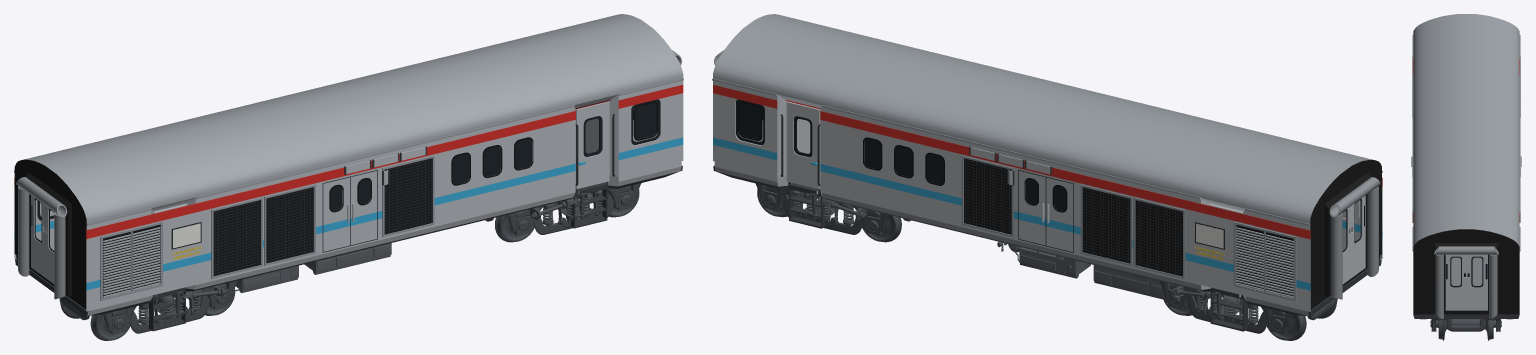
The model's file is generatorvan.glb.
3 views of the same model, side by side, from view 1: azimuth 30°, elevation 25°; view 2: azimuth 150°, elevation 25°; view 3: azimuth 270°, elevation 25° (orthographic). The views are drawn at different scales.
Visible parts, largest first — view 1: group2_pCube12, lhb_genvan_side, Train_Parts:Mesh1, pCylinder13, polySurface8, pCube36, pCube37, Train_Parts:Engine:Storage1, Storage1, lhb_end_door_windows, pCube35; view 2: group2_pCube12, lhb_genvan_side, Train_Parts:Mesh1, pCylinder13, polySurface8, pCube36, pCube37, Train_Parts:Engine:Storage1, Storage1, lhb_end_door_windows, pCube35; view 3: group2_pCube12, pCube37, pCylinder13, Train_Parts:Mesh1, lhb_genvan_side.
Part boxes in pixels (x1,y1,x2,y2): group2_pCube12: [14, 14, 683, 316]; lhb_genvan_side: [14, 111, 575, 311]; Train_Parts:Mesh1: [59, 183, 641, 340]; pCylinder13: [16, 50, 682, 299]; polySurface8: [153, 101, 609, 213]; pCube36: [149, 188, 607, 331]; pCube37: [31, 195, 54, 283]; Train_Parts:Engine:Storage1: [304, 243, 391, 274]; Storage1: [235, 265, 298, 293]; lhb_end_door_windows: [633, 101, 657, 140]; pCube35: [344, 146, 426, 185]; group2_pCube12: [712, 14, 1382, 316]; lhb_genvan_side: [820, 111, 1382, 311]; Train_Parts:Mesh1: [755, 183, 1337, 340]; pCylinder13: [714, 50, 1380, 299]; polySurface8: [786, 101, 1242, 213]; pCube36: [789, 189, 1247, 331]; pCube37: [1342, 195, 1365, 284]; Train_Parts:Engine:Storage1: [997, 242, 1090, 278]; Storage1: [1093, 265, 1170, 299]; lhb_end_door_windows: [738, 101, 762, 140]; pCube35: [969, 146, 1052, 185]; group2_pCube12: [1412, 14, 1520, 318]; pCube37: [1445, 254, 1487, 310]; pCylinder13: [1434, 246, 1498, 318]; Train_Parts:Mesh1: [1430, 319, 1501, 340]; lhb_genvan_side: [1412, 56, 1520, 222].
Bounding box in the file's own units: 12.42 × 3.23 × 2.57.
